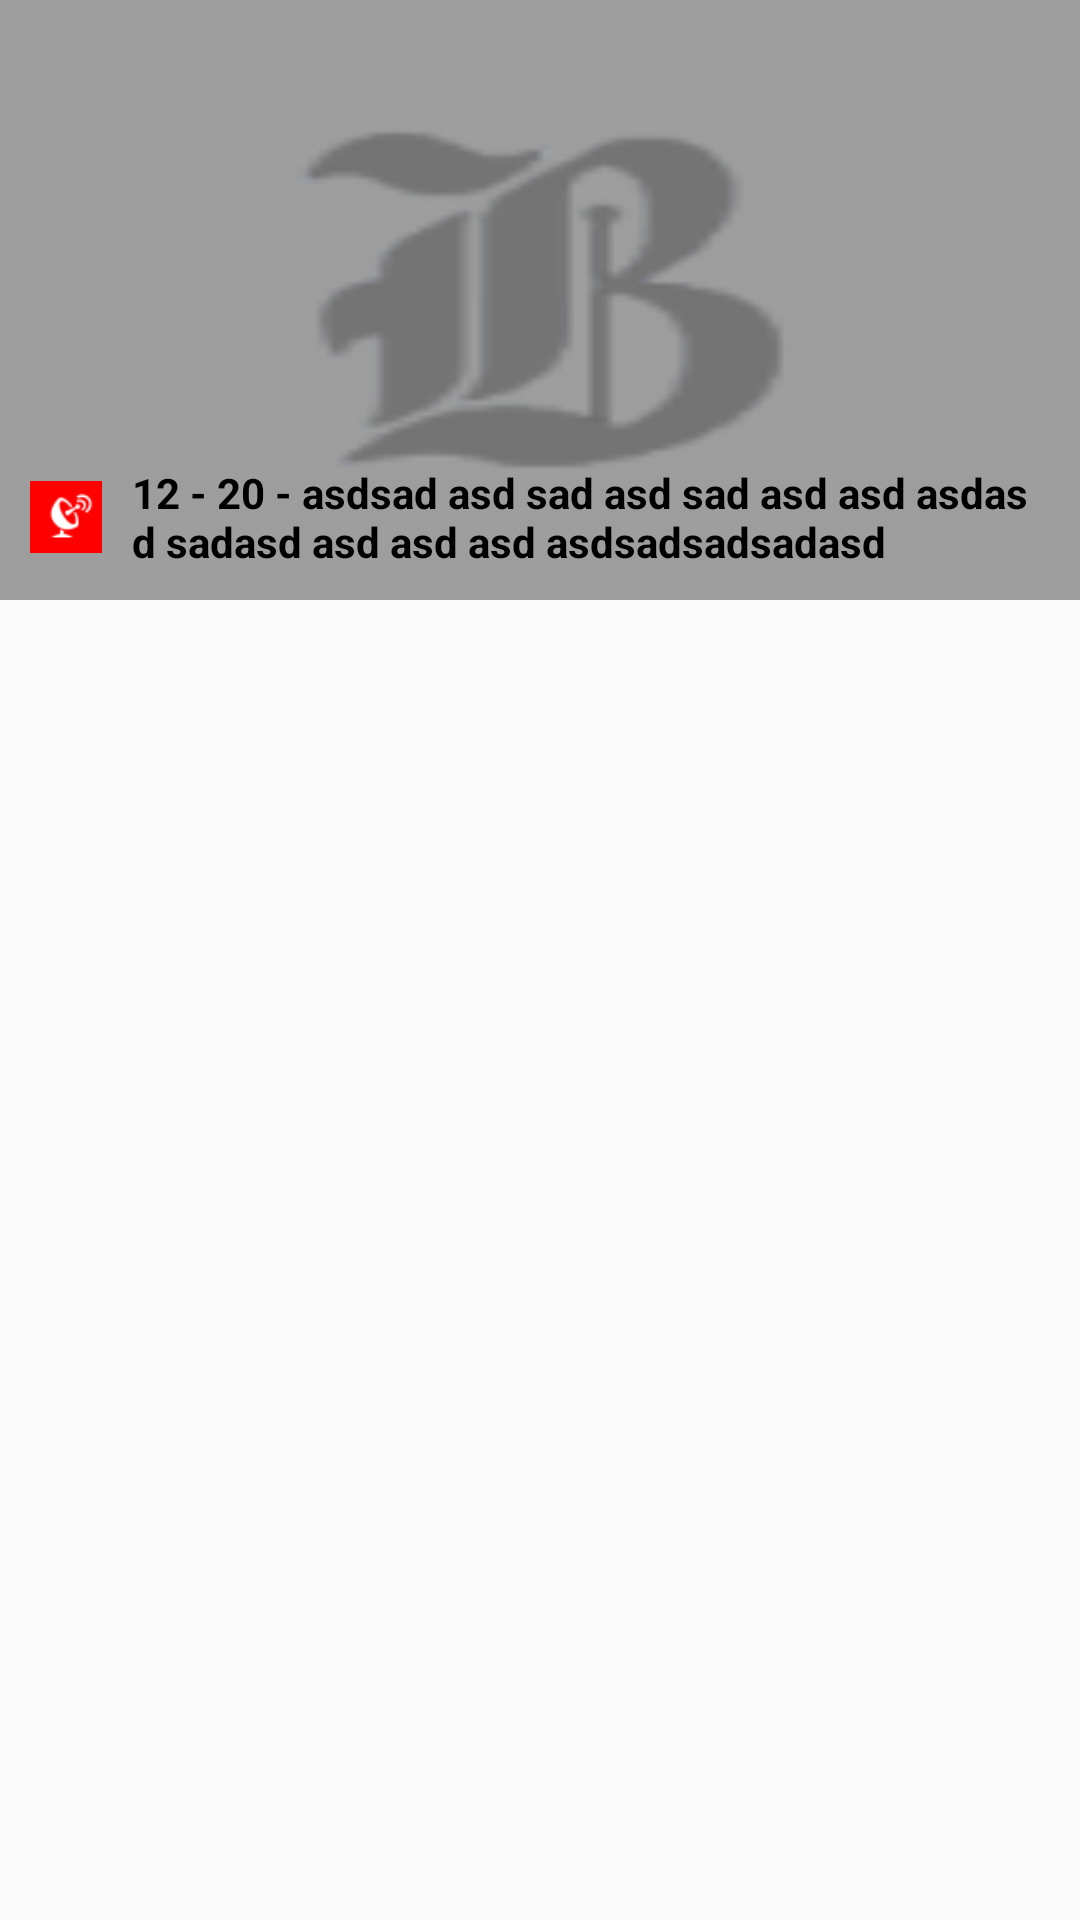

Icon bounding boxes for this 1080px x 1920px phone screenshot, format (x1, y1, x2, y2):
live: (30, 481, 102, 553)
